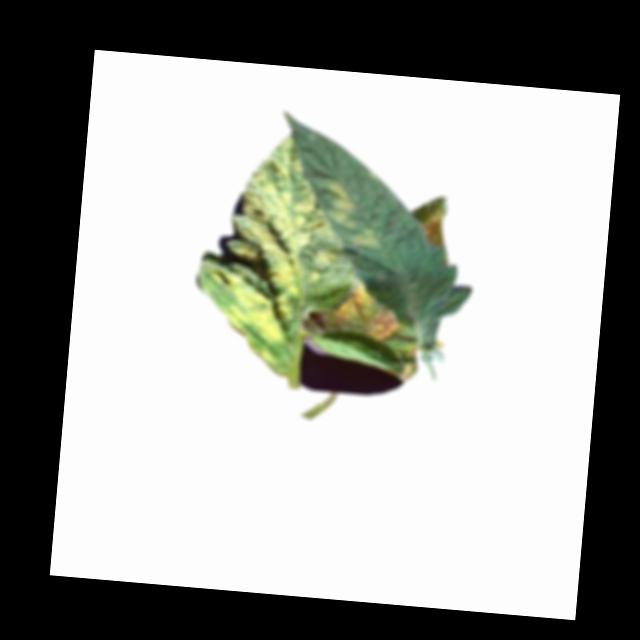Leaf_Mold: (192, 130, 344, 382), (307, 280, 403, 345), (324, 175, 355, 221), (339, 225, 387, 250), (418, 208, 447, 245)
